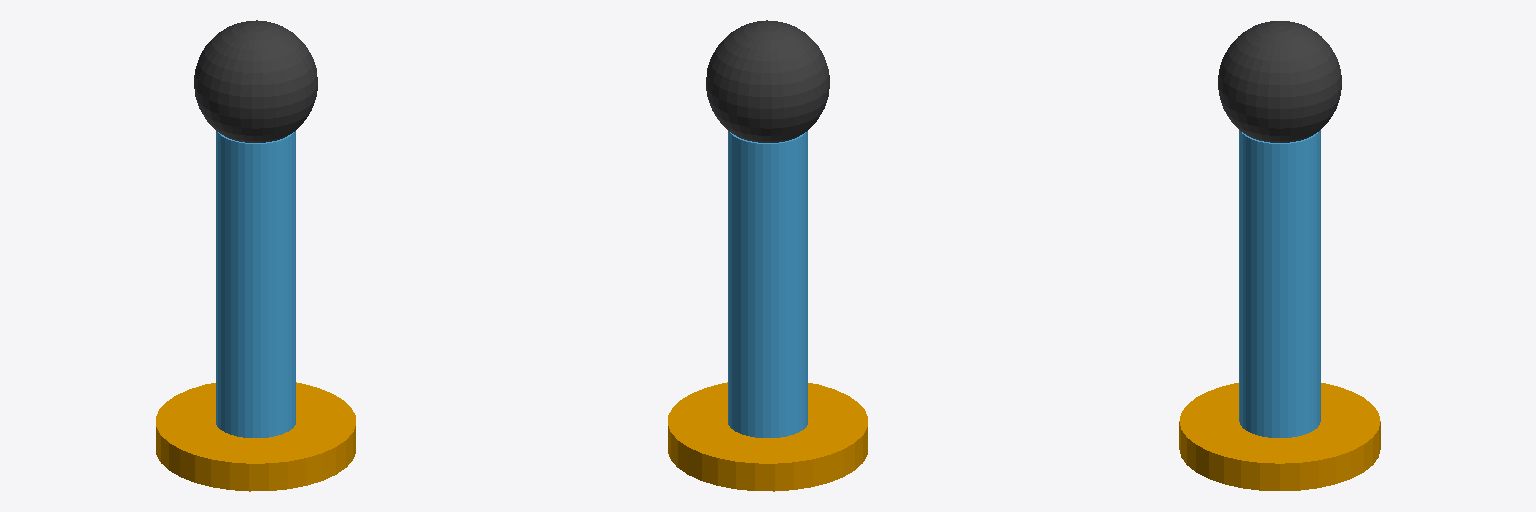
robot.urdf — end_effector_full:
<?xml version="1.0" encoding="utf-8"?>

<robot name="end_effector_full">
  <material name="black">
    <color rgba="0.3 0.3 0.3 1"/>
  </material>
  <link name="end_effector_base">
    <inertial>
      <origin rpy="0 0 0" xyz="0 0 0"/>
      <mass value="0.0779312"/>
      <interia ixx="0.0000193318083" iyy="0.0000193318083" izz="0.0000386636166" ixy="0" ixz="0" iyz="0"/>
    </inertial>
    <collision>
      <origin rpy="0 0 0" xyz="0 0 0"/>
      <geometry>
          <cylinder radius="0.0315" length="0.0096"/>
      </geometry>
    </collision>
    <visual>
      <origin rpy="0 0 0" xyz="0 0 0"/>
      <geometry>
        <cylinder radius="0.0315" length="0.0096"/>
      </geometry>
    </visual>
  </link>
  <link name="end_effector_link">
    <inertial>
      <origin rpy="0 0 0" xyz="0 0 0"/>
      <mass value="0.1340688"/>
      <interia ixx="0.000005405989188" iyy="0.000005405989188" izz="0.000010811978376" ixy="0" ixz="0" iyz="0"/>
    </inertial>
    <visual>
      <origin rpy="0 0 0" xyz="0 0 0"/>
      <geometry>
        <cylinder radius="0.0127" length="0.1016"/>
      </geometry>
    </visual>
  </link>
  <joint name="fix_link_base" type="fixed">
     <origin rpy="0 0 0" xyz="0 0 0.0556"/>
     <parent link="end_effector_base"/>
     <child link="end_effector_link"/>
  </joint>
  <link name="end_effector_tip">
   <inertial>
      <origin rpy="0 0 0" xyz="0 0 0"/>
      <mass value="0.057"/>
      <interia ixx="0.0" iyy="0.0" izz="0.0" ixy="0" ixz="0" iyz="0"/>
    </inertial>
    <visual>
      <origin rpy="0 0 0" xyz="0 0 0"/>
      <geometry>
        <sphere radius="0.0195"/>
      </geometry>
      <material name="black"/>
    </visual>
    <collision>
      <origin rpy="0 0 0" xyz="0 0 0"/>
      <geometry>
        <sphere radius="0.0195"/>
      </geometry>
    </collision>
  </link>
  <joint name="fix_tip_link" type="fixed">
    <origin rpy="0 0 0" xyz="0 0 0.0661"/>
    <parent link="end_effector_link"/>
    <child link="end_effector_tip"/>
  </joint>
</robot>

--- Render facts (derived) ---
Views: 3 orthographic renders of the robot side by side, from view 1: azimuth 30°, elevation 25°; view 2: azimuth 150°, elevation 25°; view 3: azimuth 270°, elevation 25°.
Robot: end_effector_full — 3 links, 2 joints (2 fixed); root link end_effector_base; default pose: all joints at 0.
Visible links, largest first — view 1: end_effector_link, end_effector_base, end_effector_tip; view 2: end_effector_link, end_effector_base, end_effector_tip; view 3: end_effector_link, end_effector_base, end_effector_tip.
Boxes of the visible links, <box> form: end_effector_link: <box>216,131,295,437</box>; end_effector_base: <box>156,382,355,491</box>; end_effector_tip: <box>194,20,317,142</box>; end_effector_link: <box>728,131,807,437</box>; end_effector_base: <box>668,382,867,491</box>; end_effector_tip: <box>706,20,829,142</box>; end_effector_link: <box>1239,130,1320,437</box>; end_effector_base: <box>1179,383,1380,490</box>; end_effector_tip: <box>1218,21,1341,142</box>.
Bounding box of the posed robot: 0.063 × 0.063 × 0.146 m (x, y, z).
Geometry: primitives only (box / cylinder / sphere), no mesh files.